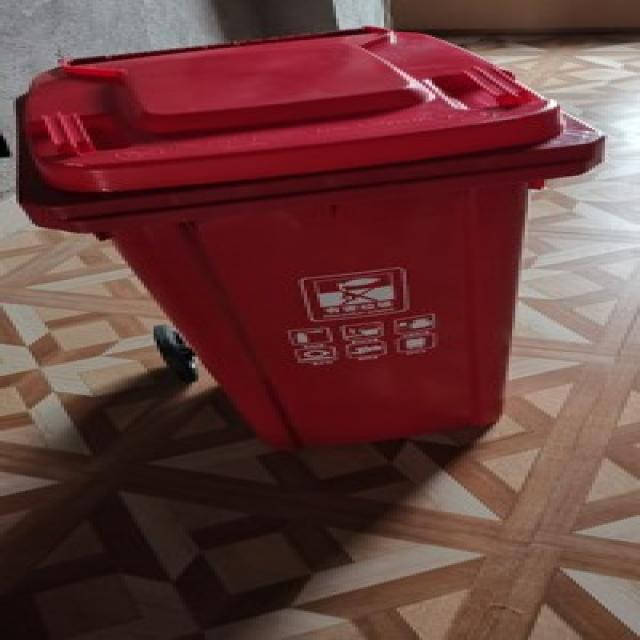ash bin: (16, 24, 602, 458)
